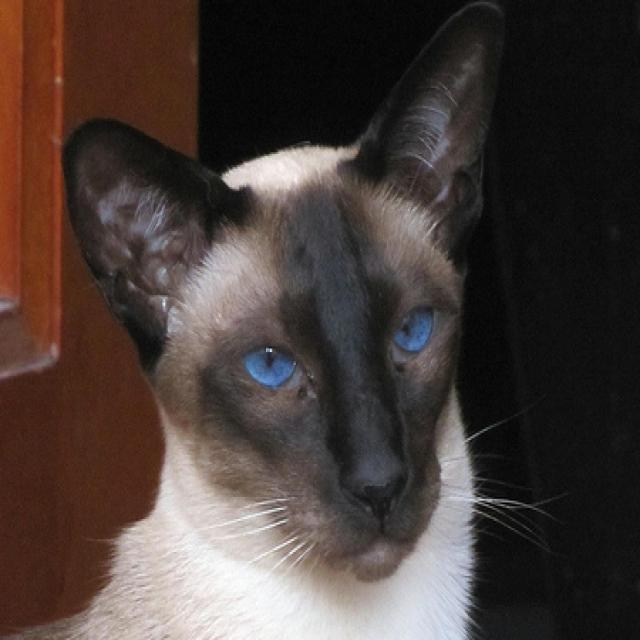Siamese: (0, 0, 513, 640)
